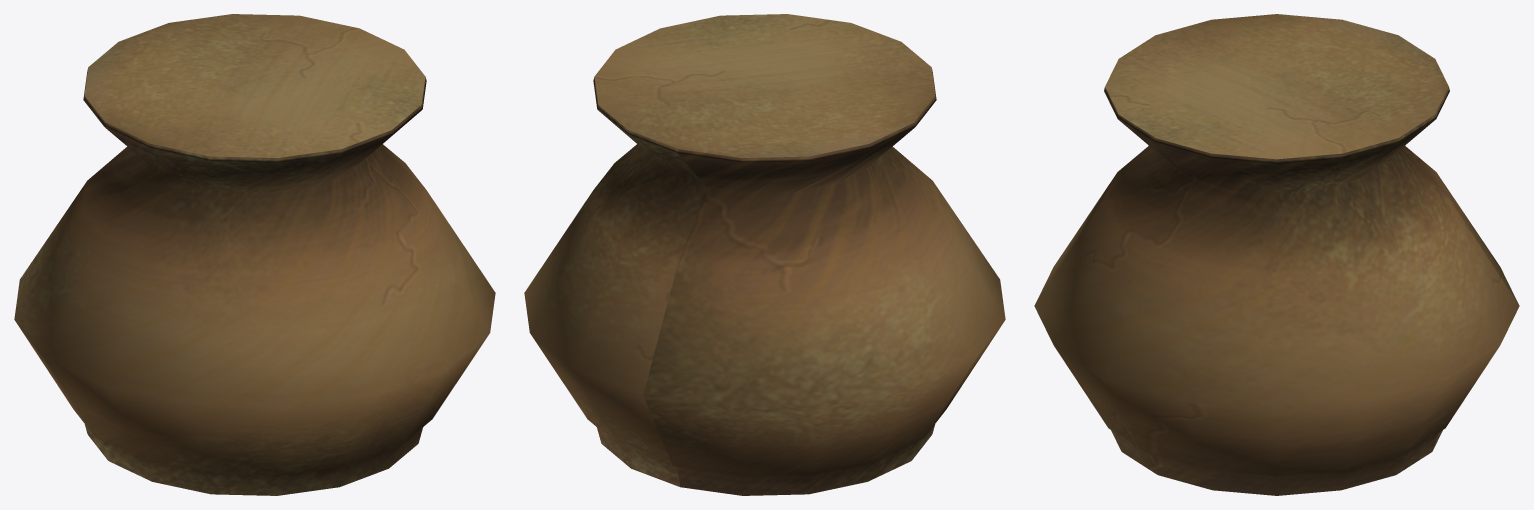
The model's file is jar2.fbx.
3 renders of one model, left to right at view 1: azimuth 30°, elevation 25°; view 2: azimuth 150°, elevation 25°; view 3: azimuth 270°, elevation 25°, orthographic.
Parts seen in each view (by area): view 1: CA_OPE_Props_Forest_Jar_002; view 2: CA_OPE_Props_Forest_Jar_002; view 3: CA_OPE_Props_Forest_Jar_002.
Boxes of the visible parts, left/top/right/bottom form: CA_OPE_Props_Forest_Jar_002: left=14, top=14, right=495, bottom=495; CA_OPE_Props_Forest_Jar_002: left=524, top=14, right=1005, bottom=495; CA_OPE_Props_Forest_Jar_002: left=1034, top=14, right=1519, bottom=495.
Bounding box in the file's own units: 2.6 × 2 × 2.6.
